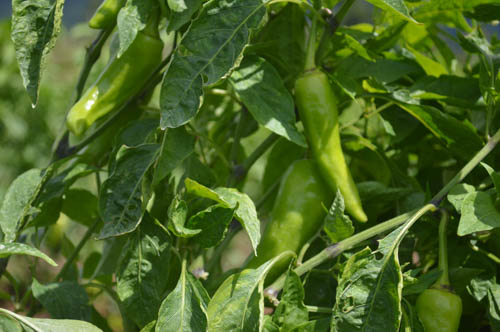ChiliPepper: (288, 71, 373, 222), (62, 34, 164, 137), (257, 162, 329, 279), (82, 81, 154, 177), (415, 291, 461, 332)
